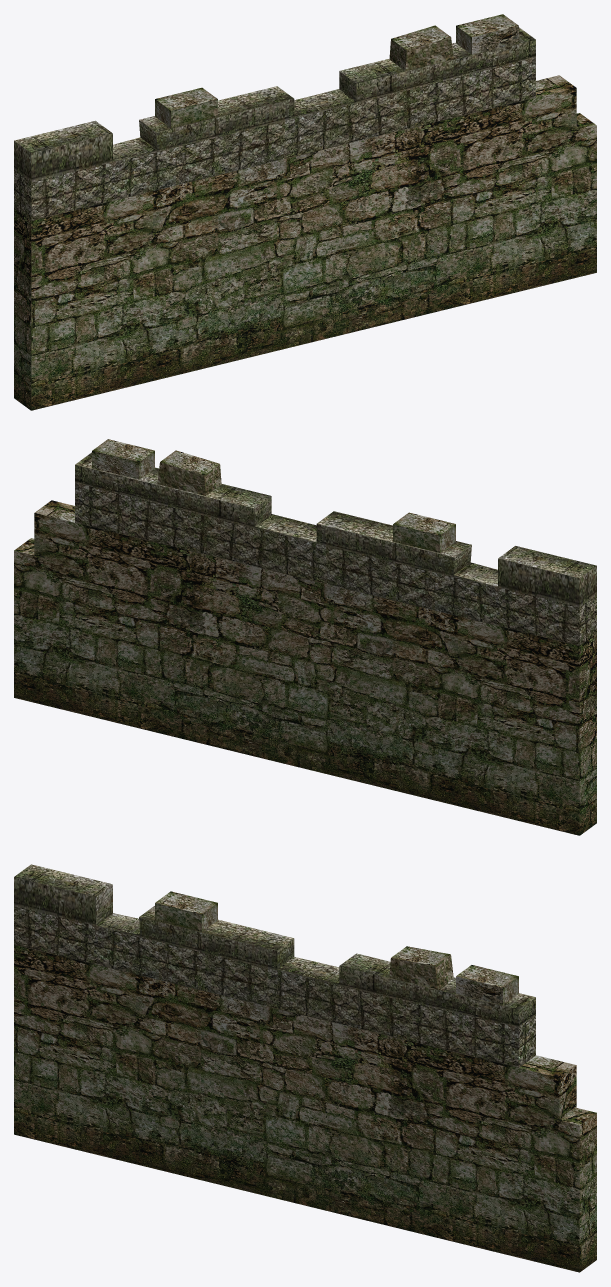
File: CARC03.glb
3 views of the same model, one above another, from view 1: azimuth 30°, elevation 25°; view 2: azimuth 150°, elevation 25°; view 3: azimuth 330°, elevation 25° (orthographic).
Visible parts, largest first — view 1: _CARC03; view 2: _CARC03; view 3: _CARC03.
Part boxes in pixels (left/top/right/bottom): _CARC03: left=14, top=14, right=596, bottom=410; _CARC03: left=14, top=439, right=596, bottom=835; _CARC03: left=14, top=864, right=596, bottom=1272.
Bounding box in the file's own units: 6.76 × 3.09 × 0.3567.
Materials: 1 (1 with a texture image).
